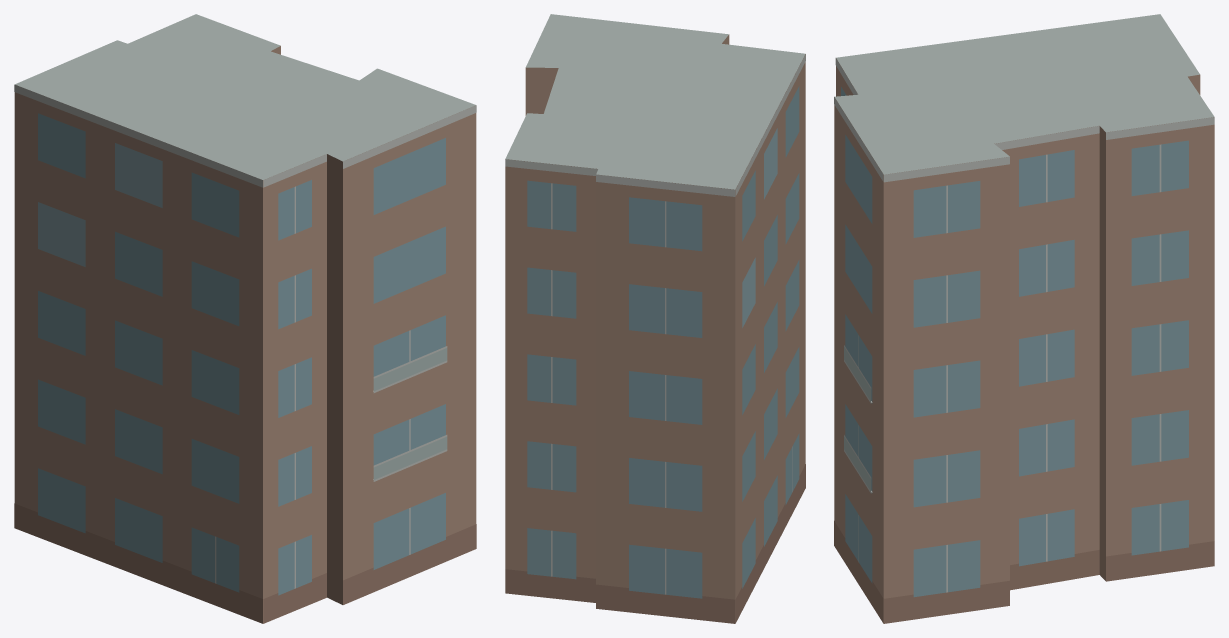
Rendered from survey-upis-32954936.glb.
3 views of the same model, side by side, from view 1: azimuth 30°, elevation 25°; view 2: azimuth 150°, elevation 25°; view 3: azimuth 270°, elevation 25° (orthographic). The views are drawn at different scales.
Parts seen in each view (by area): view 1: survey-upis-32954936.tmp; view 2: survey-upis-32954936.tmp; view 3: survey-upis-32954936.tmp.
Boxes of the visible parts, x1,y1,x2,y2 form: survey-upis-32954936.tmp: [14, 14, 476, 623]; survey-upis-32954936.tmp: [505, 14, 805, 623]; survey-upis-32954936.tmp: [834, 14, 1214, 623].
Size of the model in its own units: 10.9 by 14.2 by 10.91.
